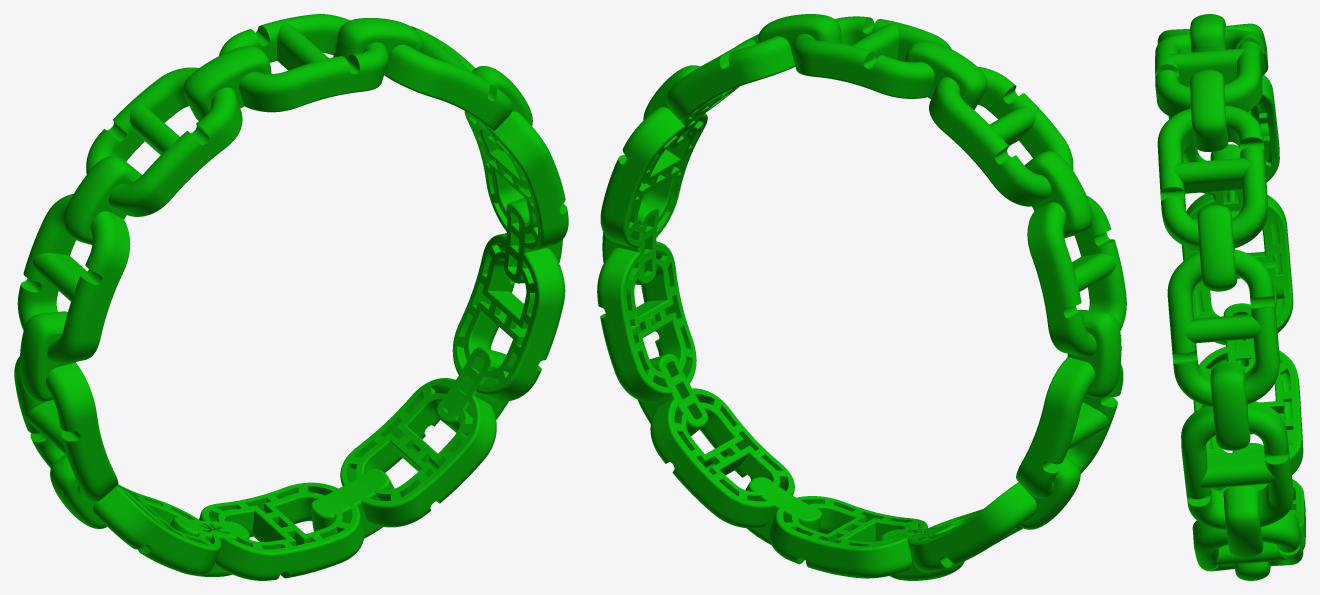
The picture shows the model from 3 angles, left to right: view 1: azimuth 30°, elevation 25°; view 2: azimuth 150°, elevation 25°; view 3: azimuth 270°, elevation 25°; orthographic projection. The views are drawn at different scales.
Visible parts, largest first — view 1: f.3dm; view 2: f.3dm; view 3: f.3dm.
Part boxes in pixels (<box>): f.3dm: <box>14,14,568,580</box>; f.3dm: <box>597,14,1126,580</box>; f.3dm: <box>1155,14,1305,580</box>.
Bounding box in the file's own units: 2.82 × 2.73 × 0.7466.
